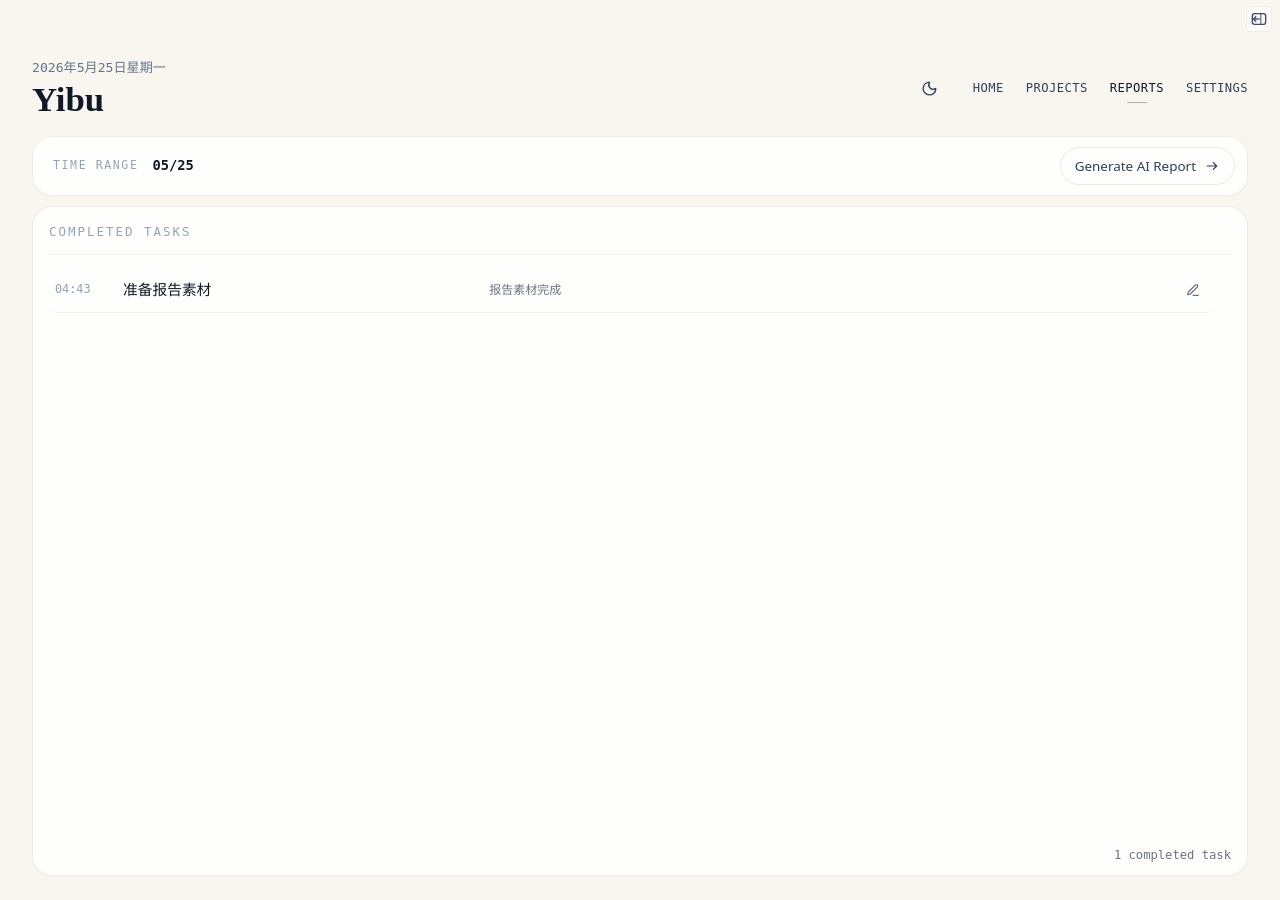
Scenario: Report Center › limits report comparison to two different API profiles
The width and height of the screenshot is (1280, 900).
Click the button "Generate AI Report".
click(1147, 166)  # box [1060,147,1235,185]
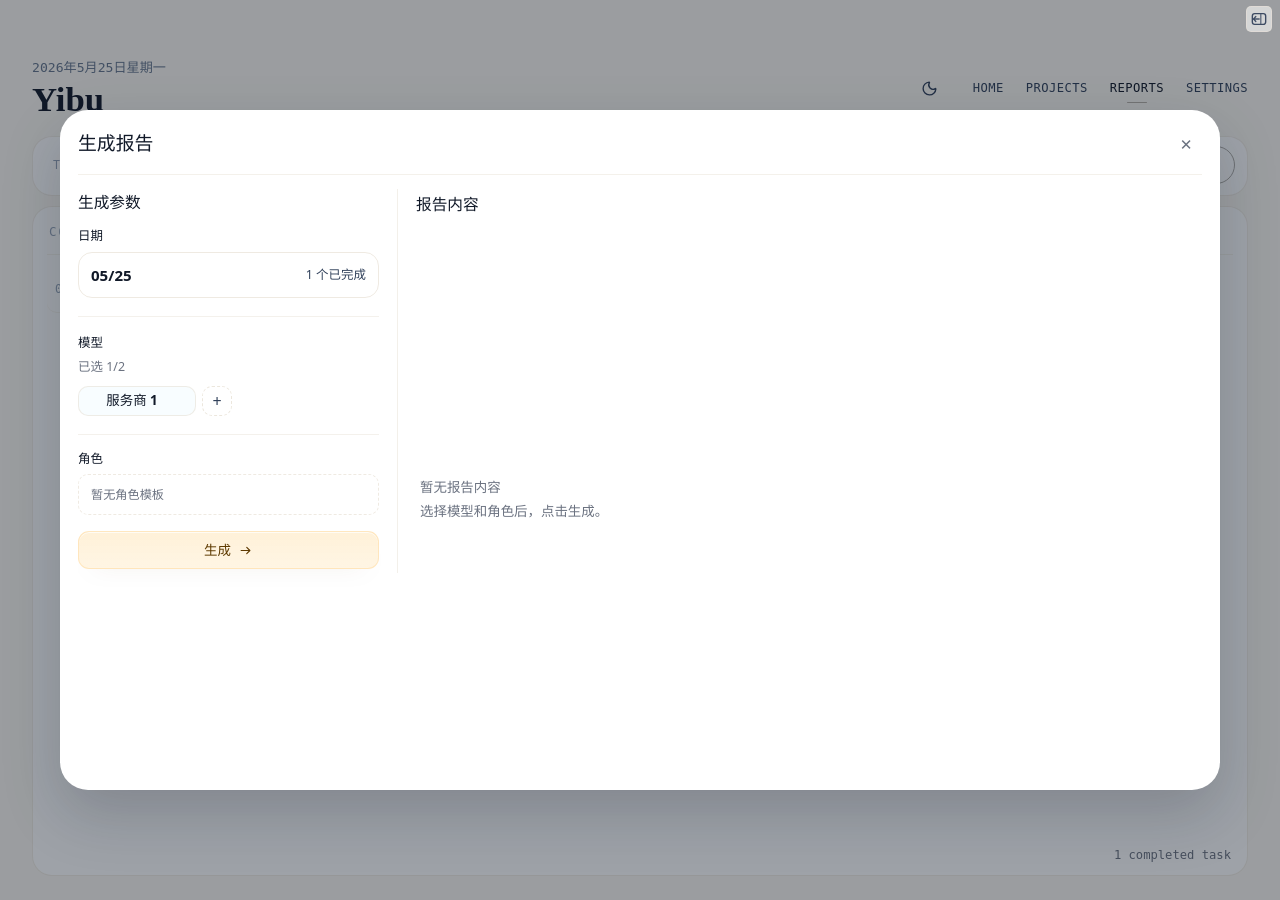
Expected: the label named "Add API" is shown
Select "API 2" in the dropdown named "Add API" at point(217, 401), box [202,386,232,416]
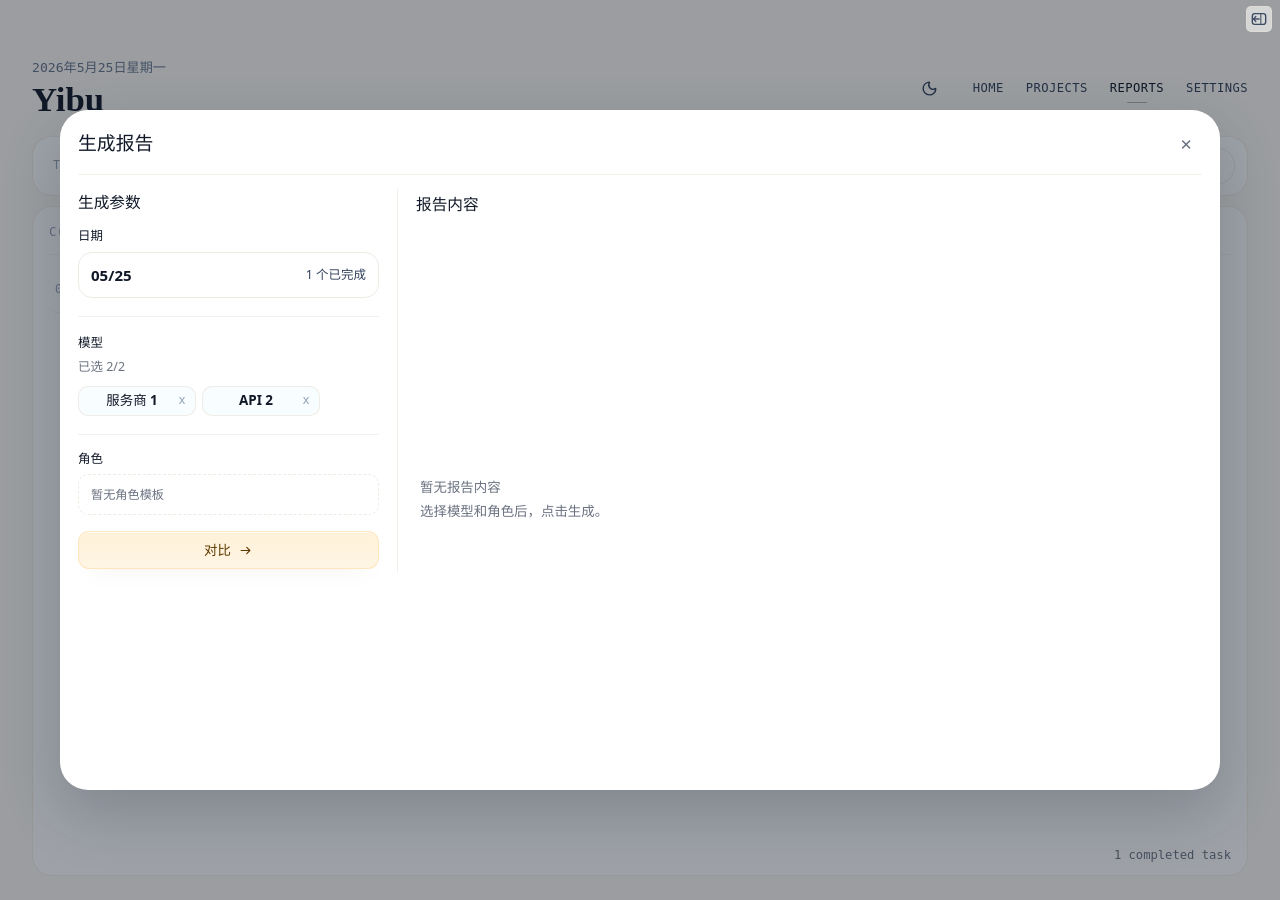
Expected: the field labelled "Add API" is not shown
Expected: the text "已选 2/2" is shown, [78,358,125,375]
